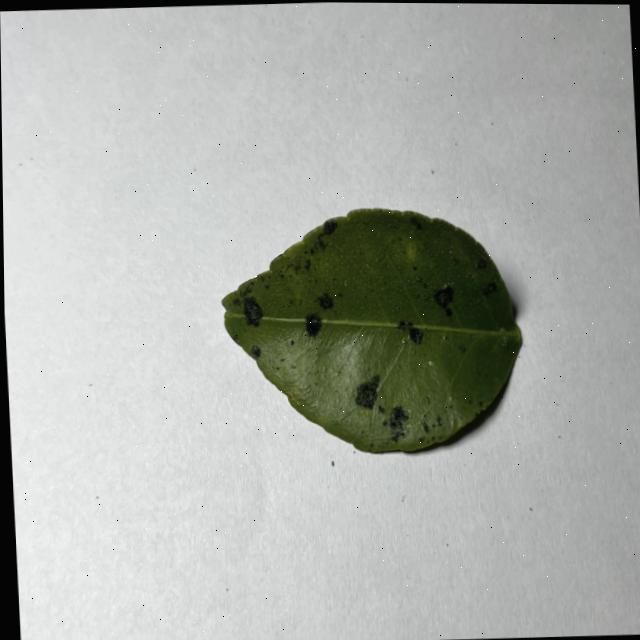sooty_mold: (222, 210, 521, 451)
